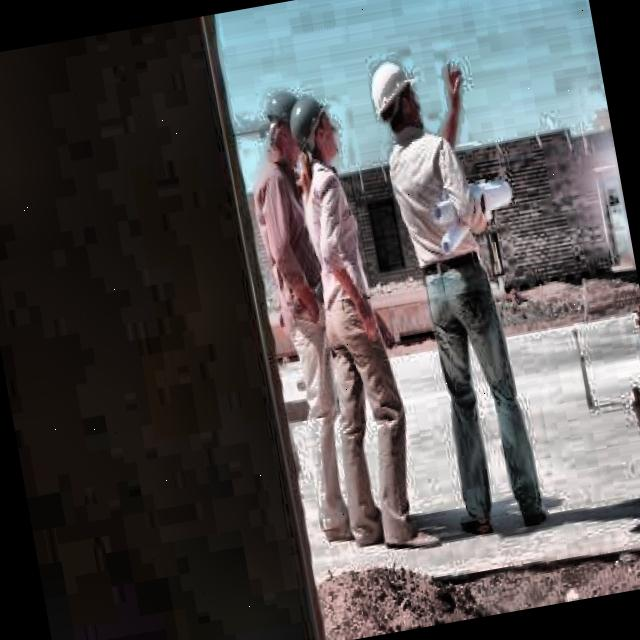helmet: (364, 52, 426, 142), (285, 92, 344, 170), (257, 86, 310, 166)
